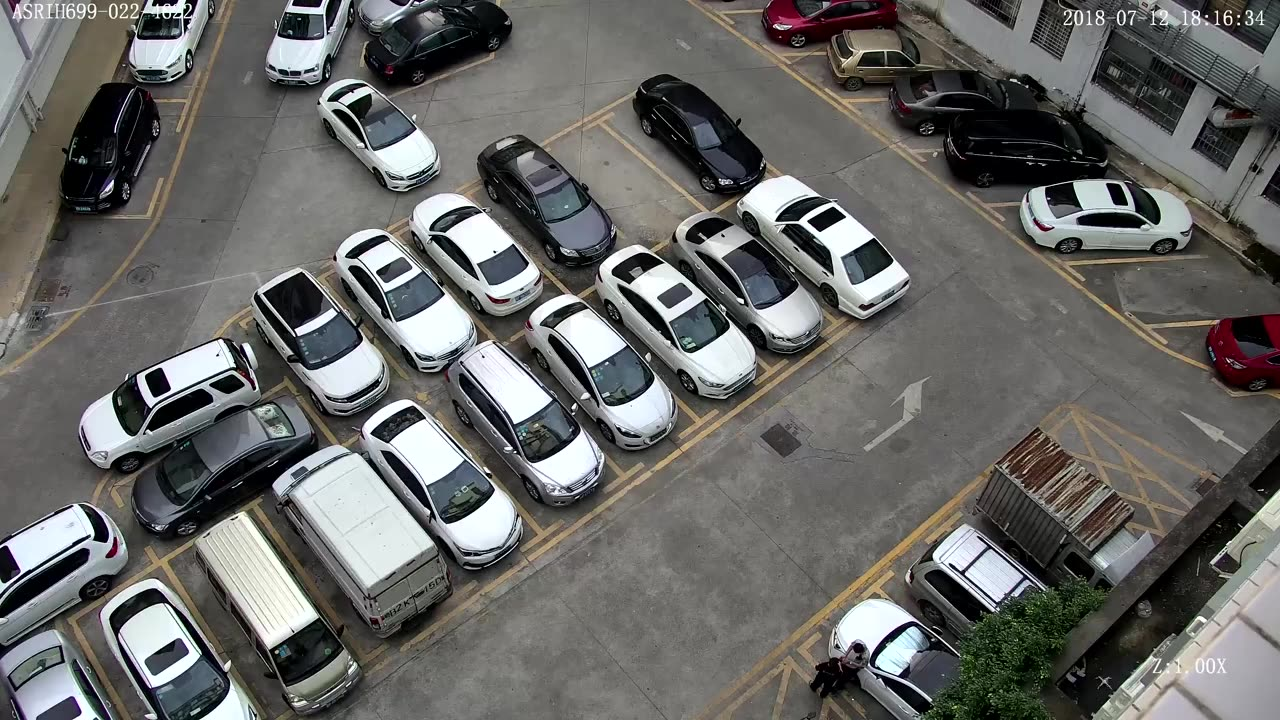Car: (272, 445, 452, 638), (194, 512, 362, 715), (973, 428, 1156, 586), (359, 400, 523, 570), (445, 341, 606, 506), (131, 396, 318, 537), (596, 245, 759, 400), (737, 175, 911, 320), (78, 338, 261, 473), (525, 294, 679, 450), (99, 579, 261, 720), (671, 213, 824, 354), (333, 229, 478, 373), (250, 268, 390, 417), (0, 502, 129, 649), (477, 135, 617, 266), (905, 522, 1050, 638), (828, 598, 964, 720), (409, 193, 543, 316), (634, 74, 766, 193), (318, 79, 441, 192), (60, 82, 161, 213), (1019, 179, 1193, 255), (943, 110, 1108, 187), (364, 0, 513, 84), (0, 629, 117, 720), (889, 69, 1038, 136), (265, 0, 356, 86), (827, 29, 950, 91), (128, 0, 216, 84), (761, 0, 898, 47), (1204, 314, 1280, 391), (359, 0, 472, 35)
